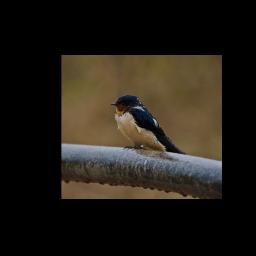Swallow: (109, 94, 186, 155)
